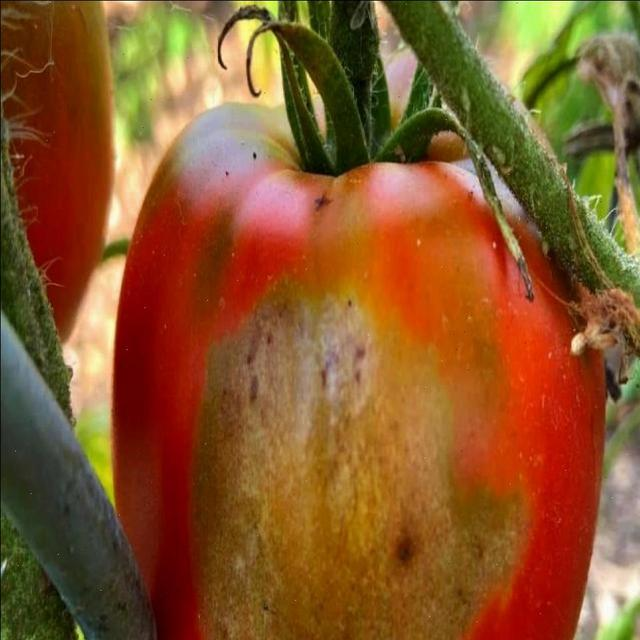Sunscald Fruit: (158, 105, 253, 274)
